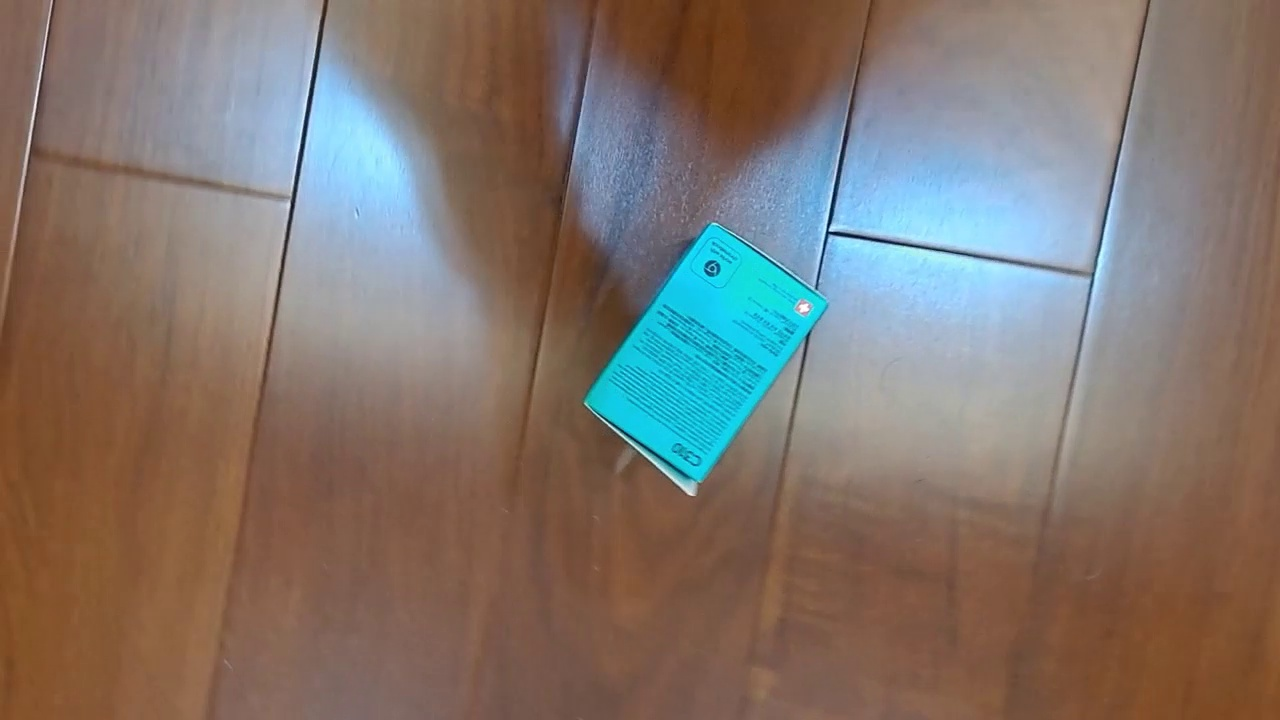webcam: (582, 220, 833, 499)
